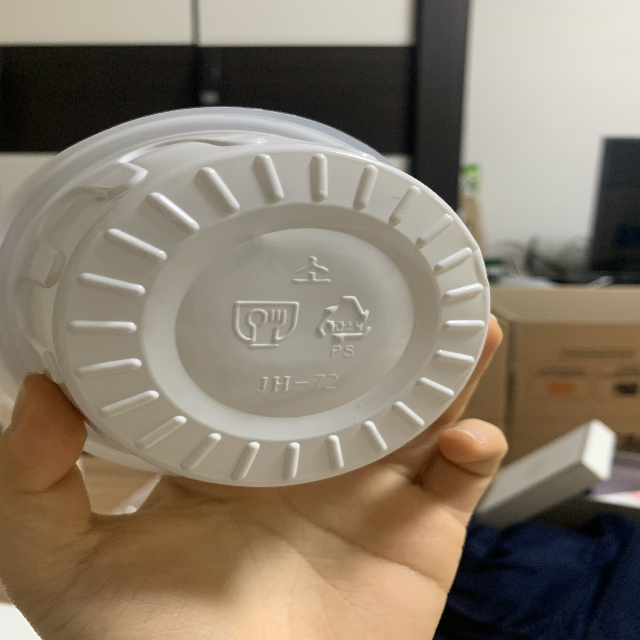ps: (311, 292, 380, 364)
